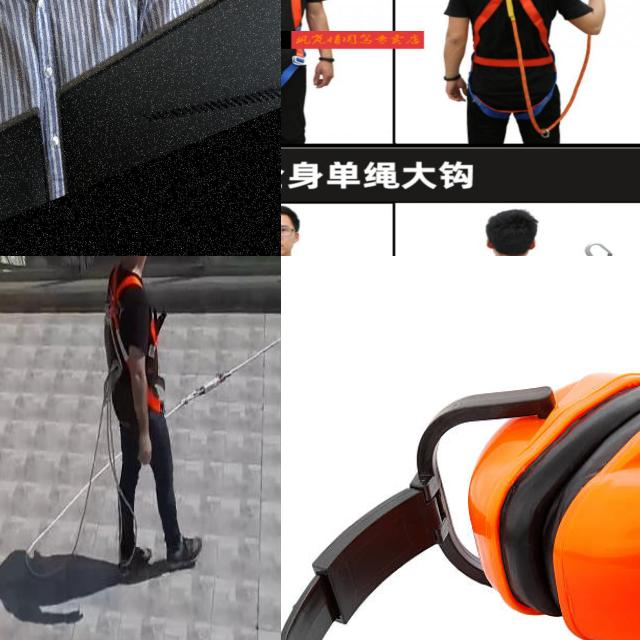Ear-protection: (281, 361, 640, 640)
Harness: (473, 0, 555, 123), (167, 336, 281, 418), (105, 266, 141, 388)
